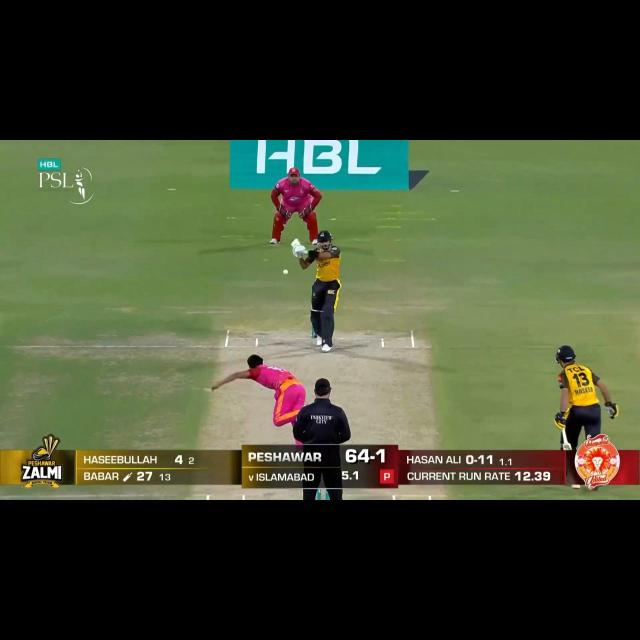bat: (289, 238, 302, 248), (564, 443, 572, 450)
toe: (569, 483, 581, 491), (291, 239, 300, 248)
